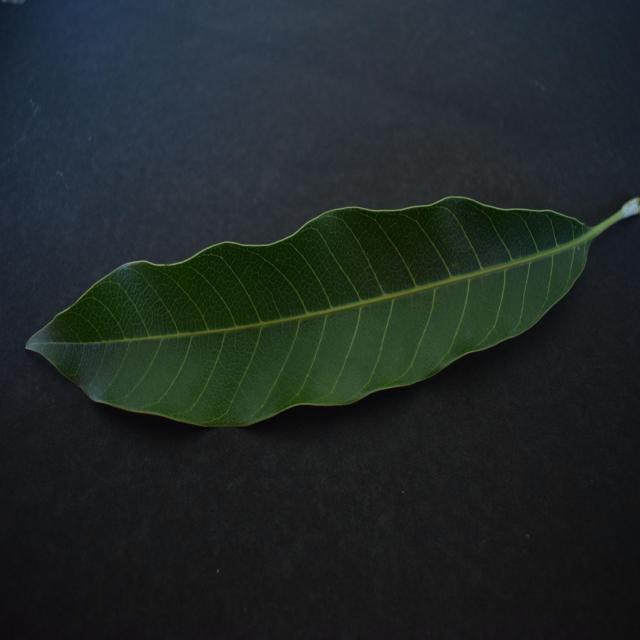healthy: (26, 197, 640, 425)
